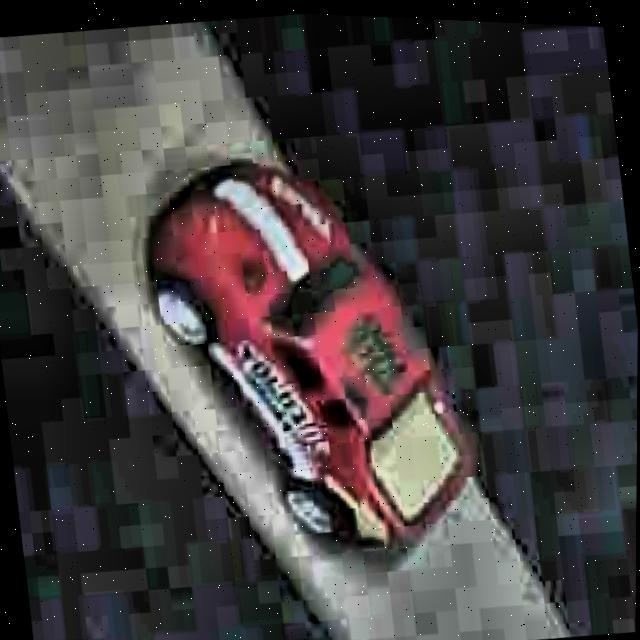car: (128, 130, 489, 581)
